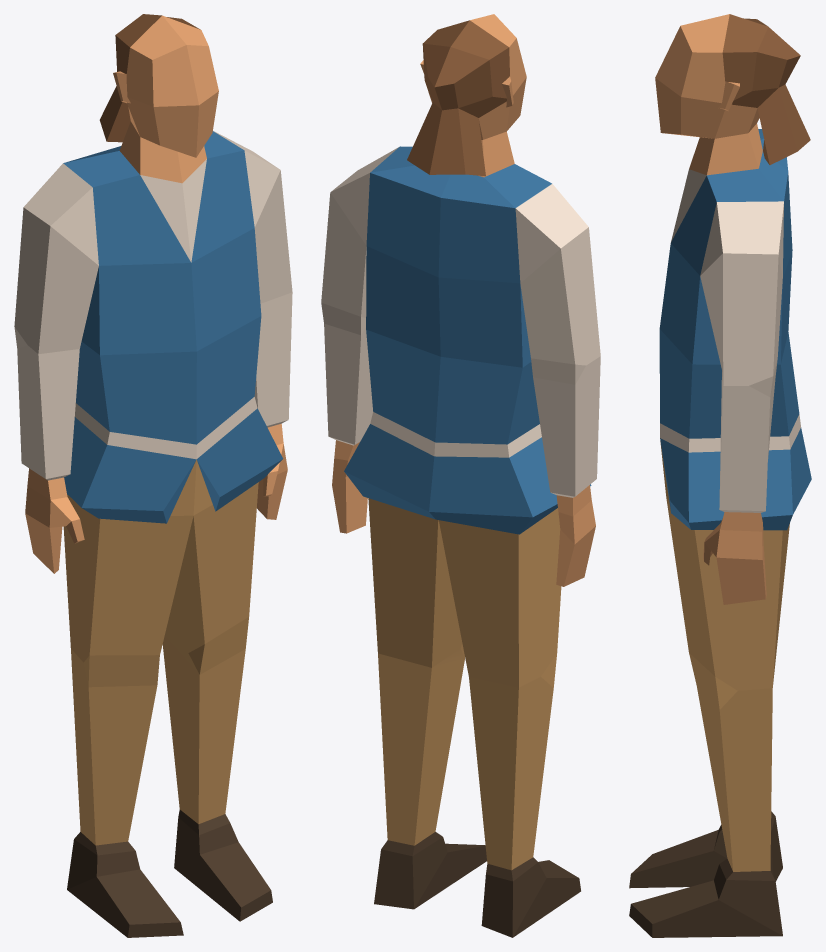
File: people_man-servant.fbx
The picture shows the model from 3 angles, left to right: view 1: azimuth 30°, elevation 25°; view 2: azimuth 150°, elevation 25°; view 3: azimuth 270°, elevation 25°; orthographic projection.
Parts seen in each view (by area): view 1: people_man_servant; view 2: people_man_servant; view 3: people_man_servant.
Part boxes in pixels (<box>): people_man_servant: <box>14,14,292,937</box>; people_man_servant: <box>321,14,600,937</box>; people_man_servant: <box>629,14,811,937</box>.
Size of the model in its own units: 60.64 by 200 by 37.28.
